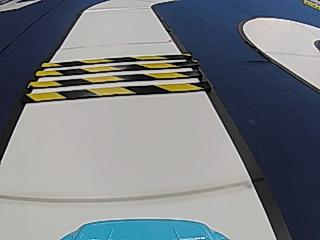bump: (18, 50, 211, 108)
